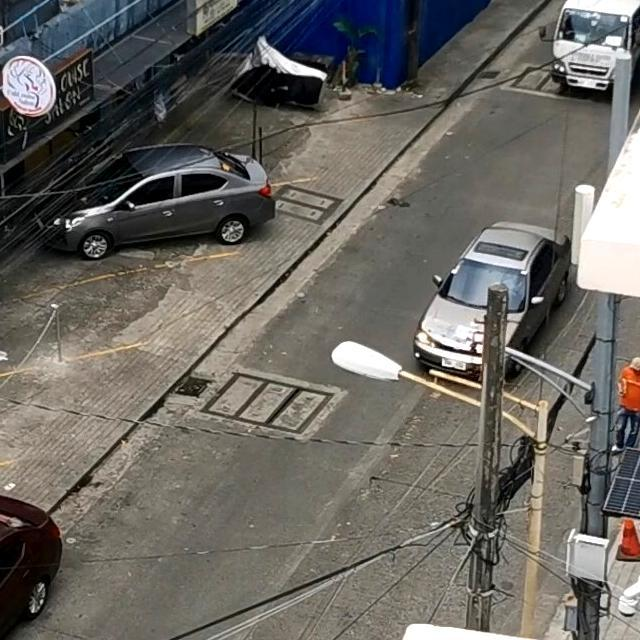Truck: (552, 0, 640, 99)
